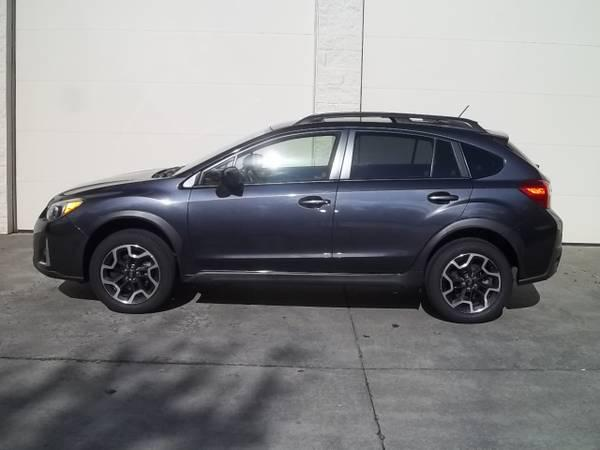Front_Bumper: (32, 217, 89, 283)
Front_Fender: (67, 188, 196, 280)
Front_Left_Door: (188, 181, 340, 285)
Front_Left_Window: (193, 125, 353, 186)
Hood: (48, 166, 180, 199)
Left_Headlight: (36, 199, 81, 225)
Left_Taillight: (515, 174, 554, 205)
Rear_Bumper: (507, 209, 569, 287)
Rear_Fender: (465, 137, 549, 233)
Rear_Left_Door: (330, 179, 475, 285)
Rear_Left_Window: (337, 126, 476, 182)
Roof: (188, 111, 553, 183)
Wheel: (429, 235, 517, 319), (87, 225, 174, 309)
